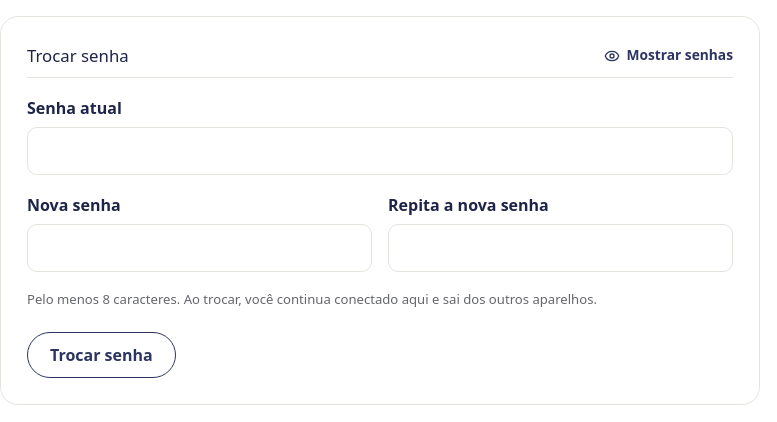
Test case: trocar senha na Minha conta › troca a senha e encerra as outras sessões abertas
Type "SenhaAntiga1" into the password field labelled "Senha atual" at (380, 151), box [27, 127, 733, 175]
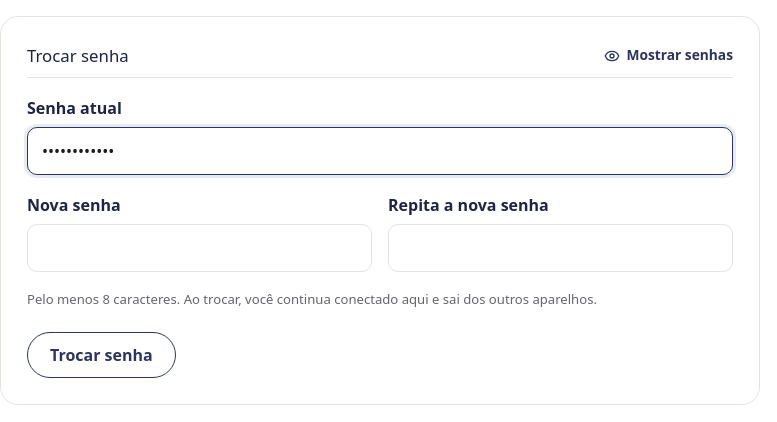
Type "NovaSenha2026" into the password field labelled "Nova senha" at (200, 248), box [27, 224, 372, 272]
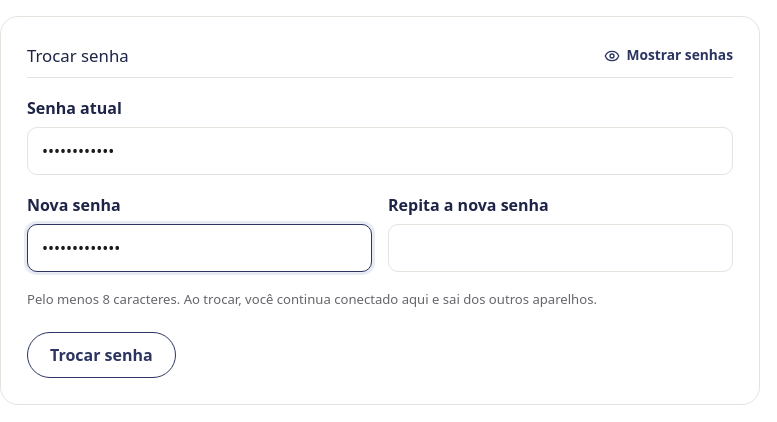
Type "NovaSenha2026" into the password field labelled "Repita a nova senha" at (560, 248), box [388, 224, 733, 272]
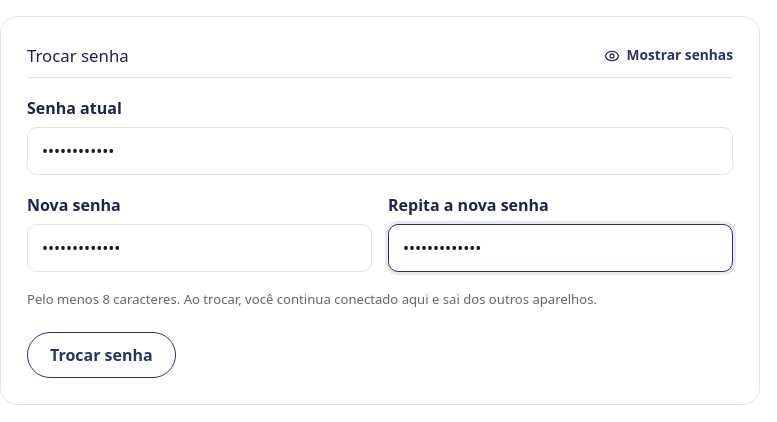
Click the button "Trocar senha" at (101, 355), box [27, 332, 176, 378]
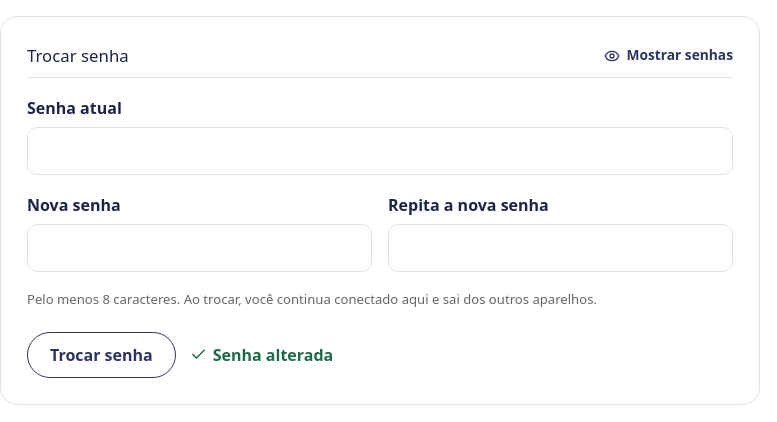
Result: the message reads "Senha alterada" at [213, 344, 333, 366]
Result: the password field labelled "Senha atual" is empty at [27, 127, 733, 175]
Result: the password field labelled "Nova senha" is empty at [27, 224, 372, 272]
